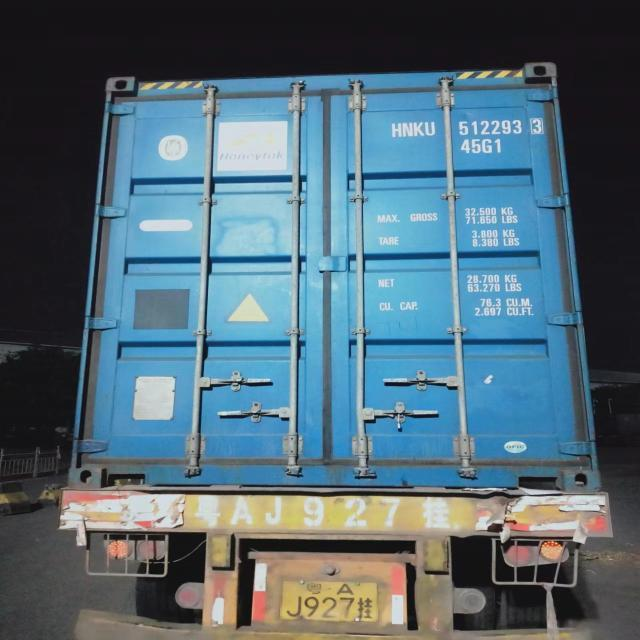ISO: (462, 138, 510, 154)
container_number: (398, 119, 542, 138)
